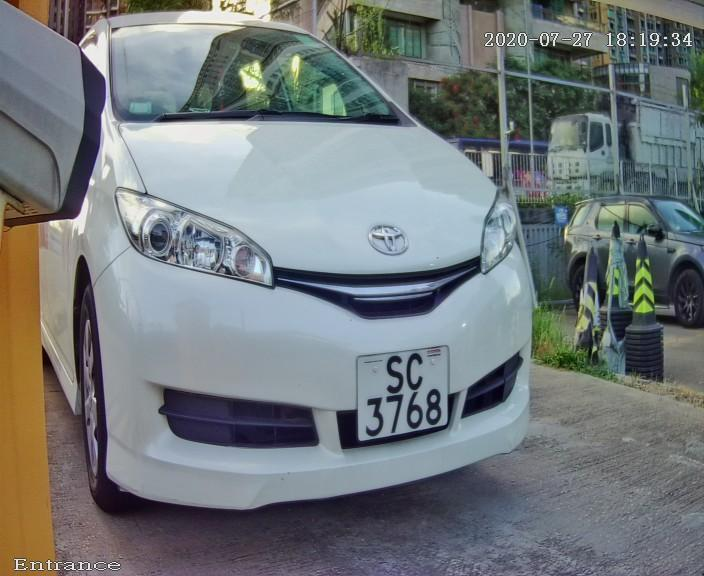privatecar: (48, 8, 582, 543)
